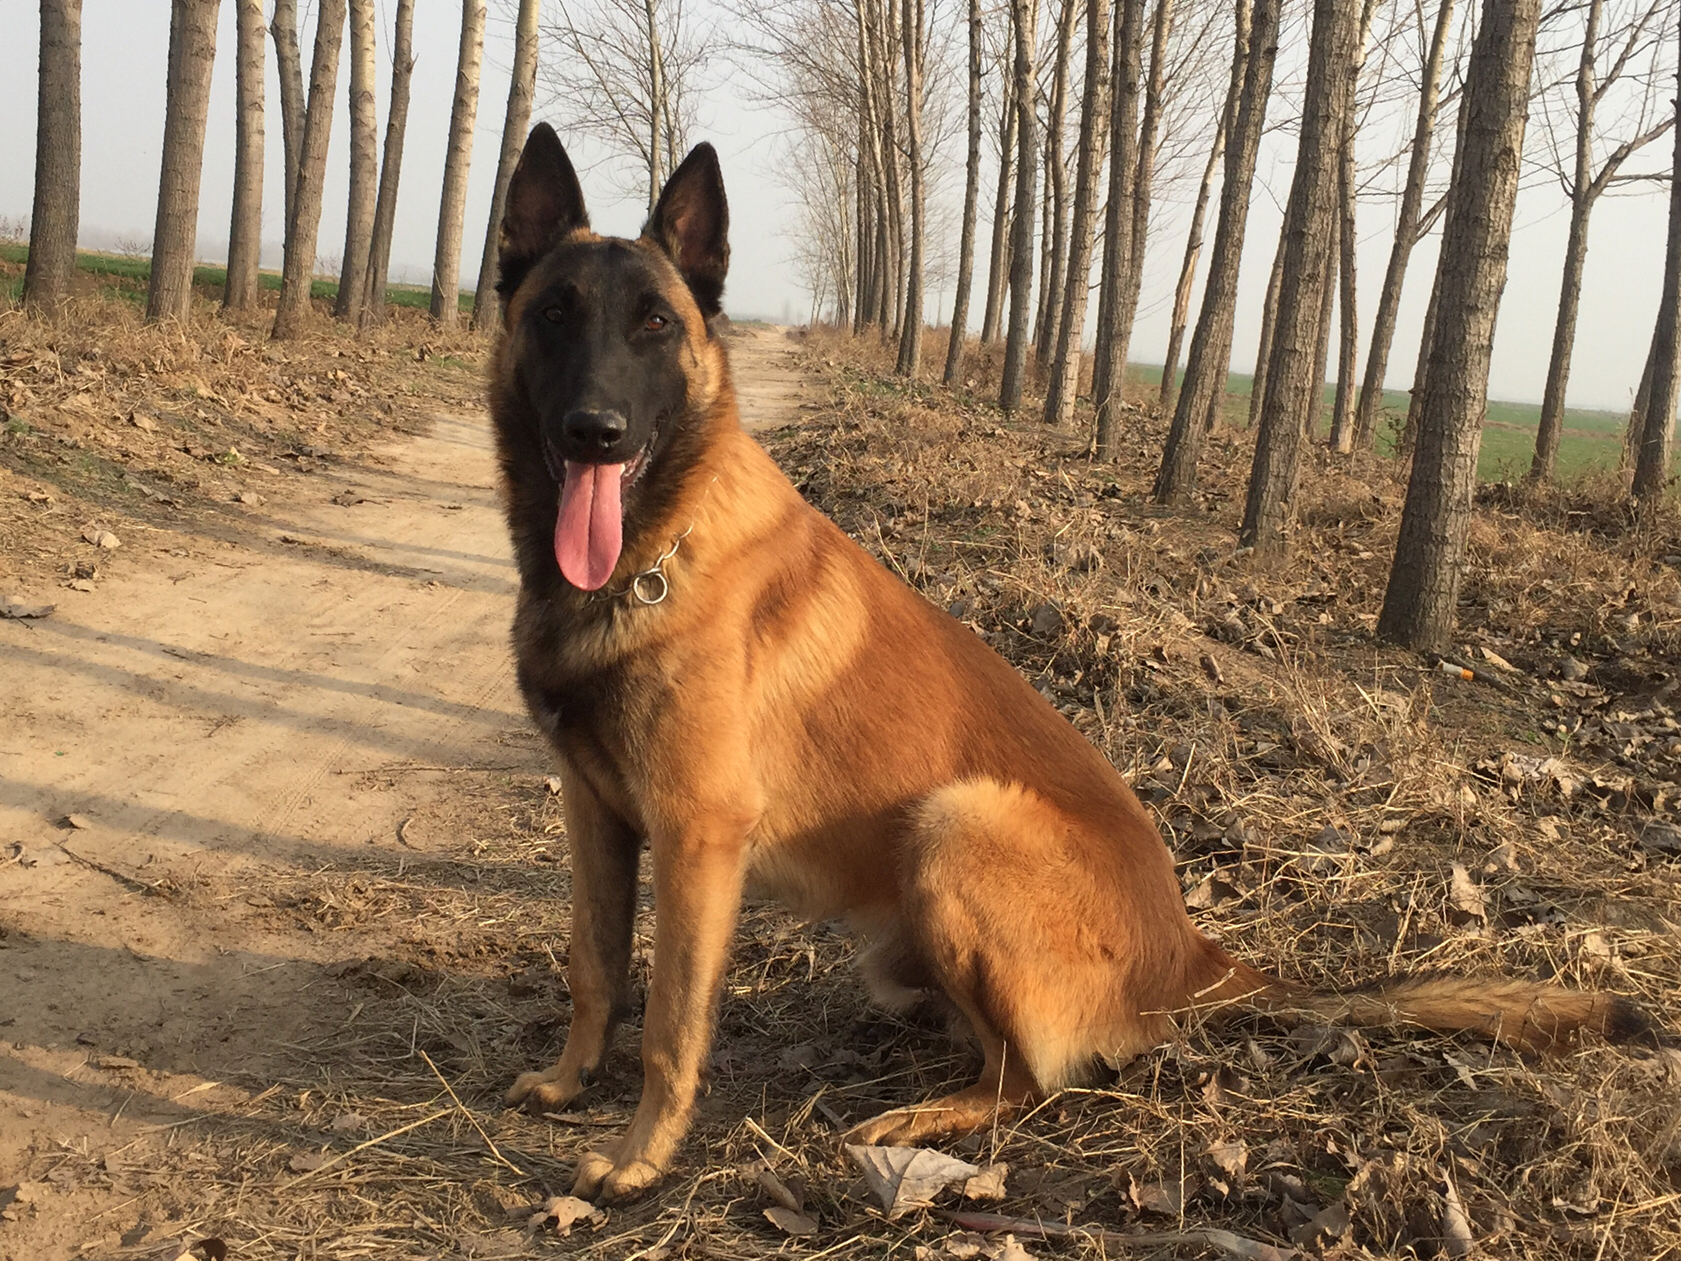background: (484, 126, 1270, 1209)
